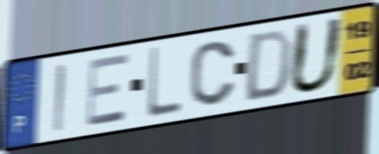C: (188, 39, 239, 109)
D: (241, 27, 295, 105)
E: (85, 51, 130, 130)
I: (51, 61, 67, 135)
L: (145, 44, 183, 122)
U: (287, 15, 347, 97)
